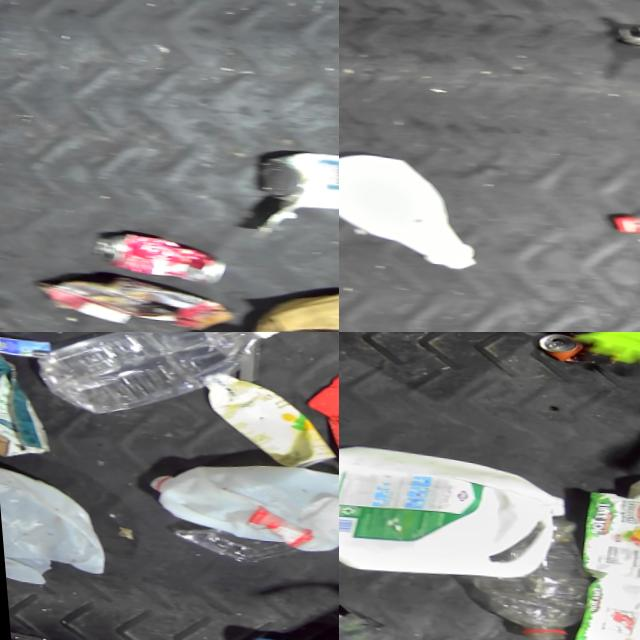can: (83, 215, 226, 285), (226, 148, 339, 235), (534, 332, 576, 364)
milk_jug: (339, 443, 560, 577), (130, 453, 339, 551), (0, 464, 107, 586)
plastic_bottle: (40, 332, 289, 424), (515, 515, 595, 640), (597, 175, 640, 249)
